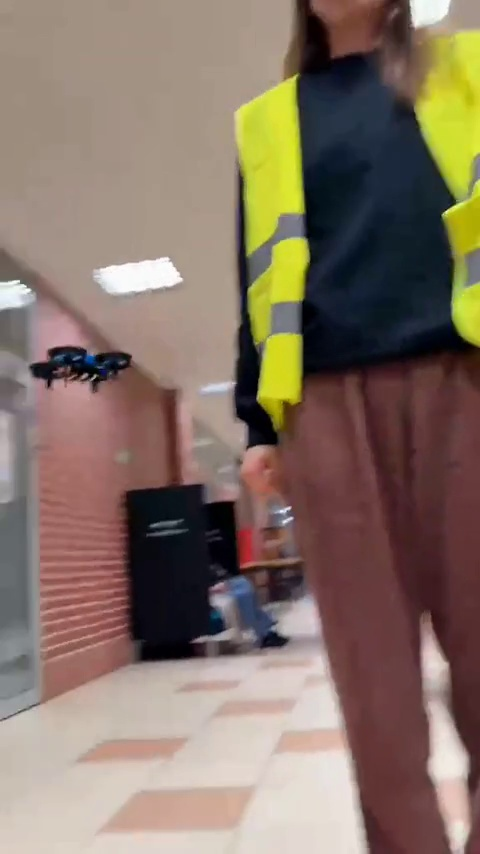drone: (39, 349, 131, 384)
vest: (216, 66, 480, 854)
